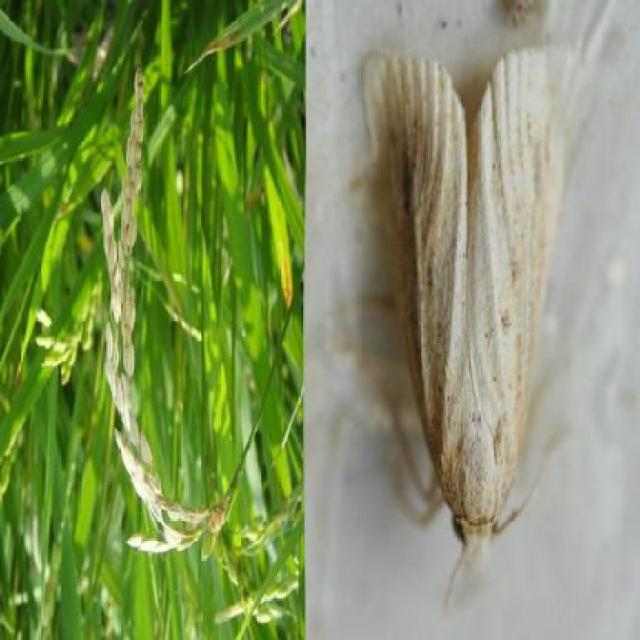stem-borer: (363, 46, 568, 594)
